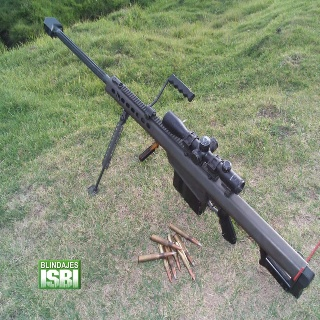rifle: (43, 15, 317, 303)
